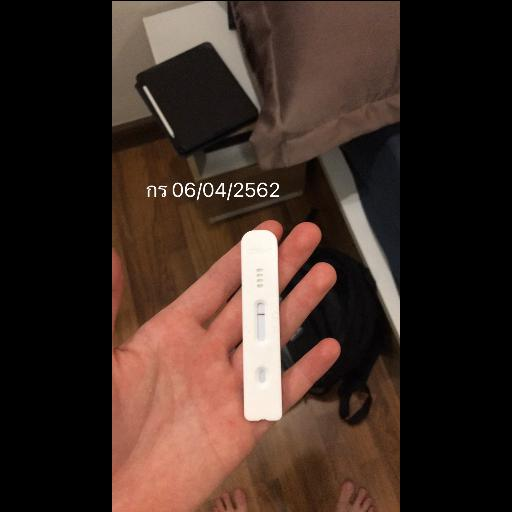Neg: (240, 228, 280, 420)
